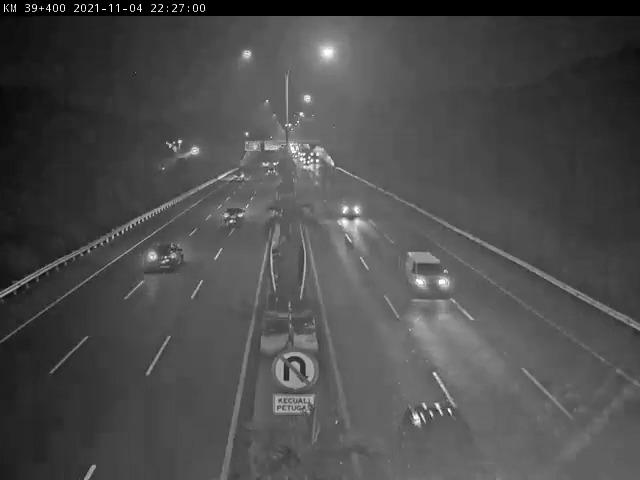car: (402, 250, 452, 296), (146, 243, 187, 271), (337, 191, 363, 217), (222, 206, 246, 227)
